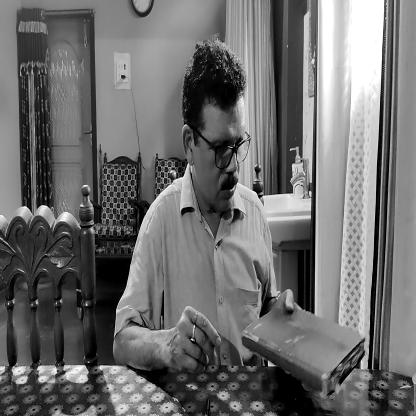Distracted: (179, 42, 246, 218)
